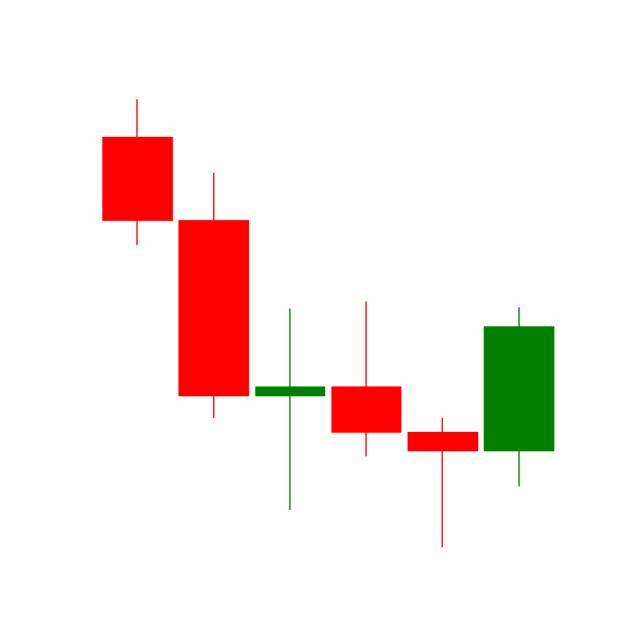Dragonfly Doji: (404, 417, 482, 550)
